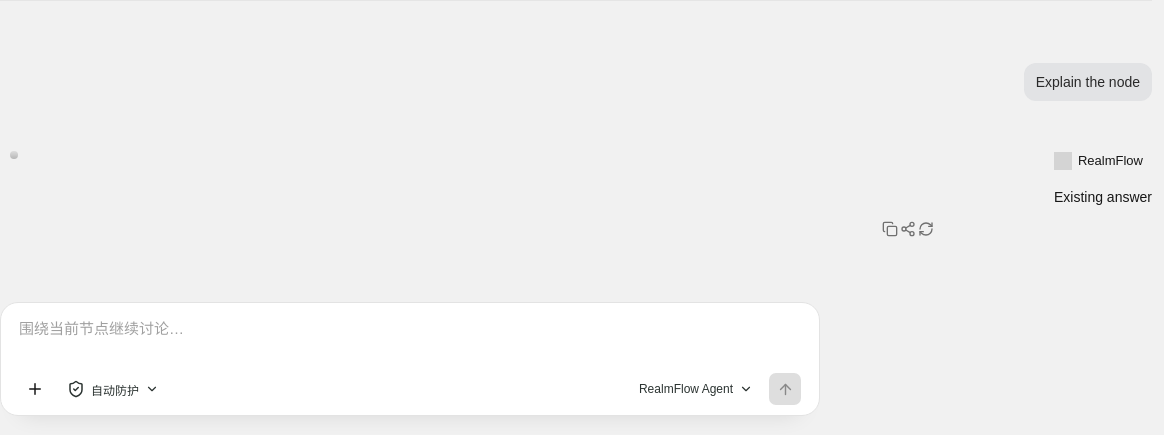
RequirementNodeConversationPanel › publishes a safe Toast and retains input when append fails
This screenshot has width=1164, height=435.
Type "Continue" into the text box named "节点对话内容". click: (410, 343)
box: left=19, top=317, right=801, bottom=369
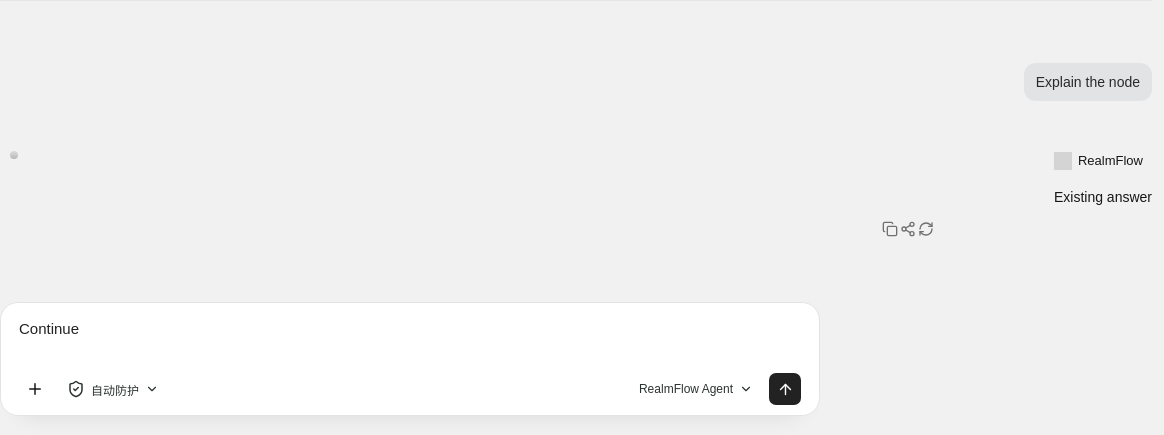
Click the button named "发送节点消息". click: (785, 389)
box: left=769, top=373, right=801, bottom=405
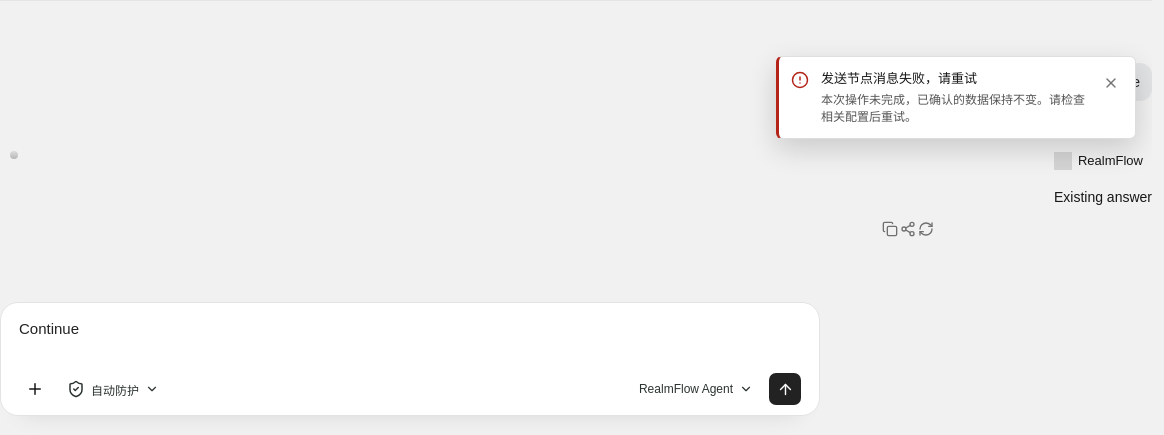
Now the text "发送节点消息失败，请重试" is shown, box left=821, top=71, right=977, bottom=86
